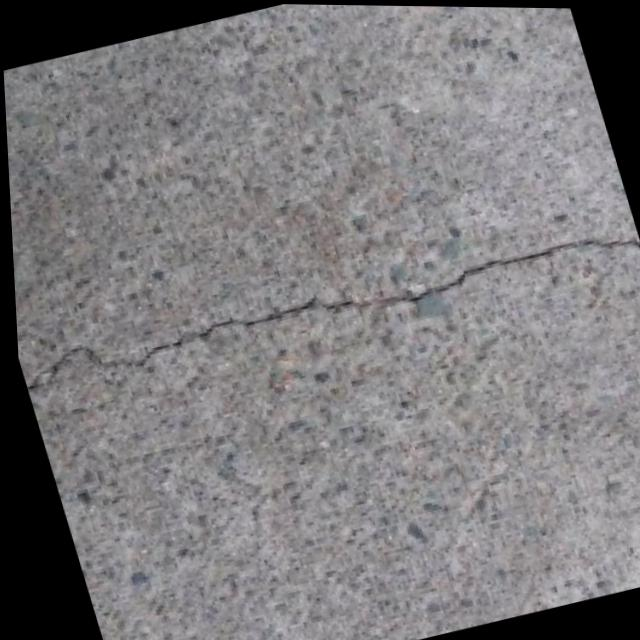Crack: (6, 151, 640, 453)
